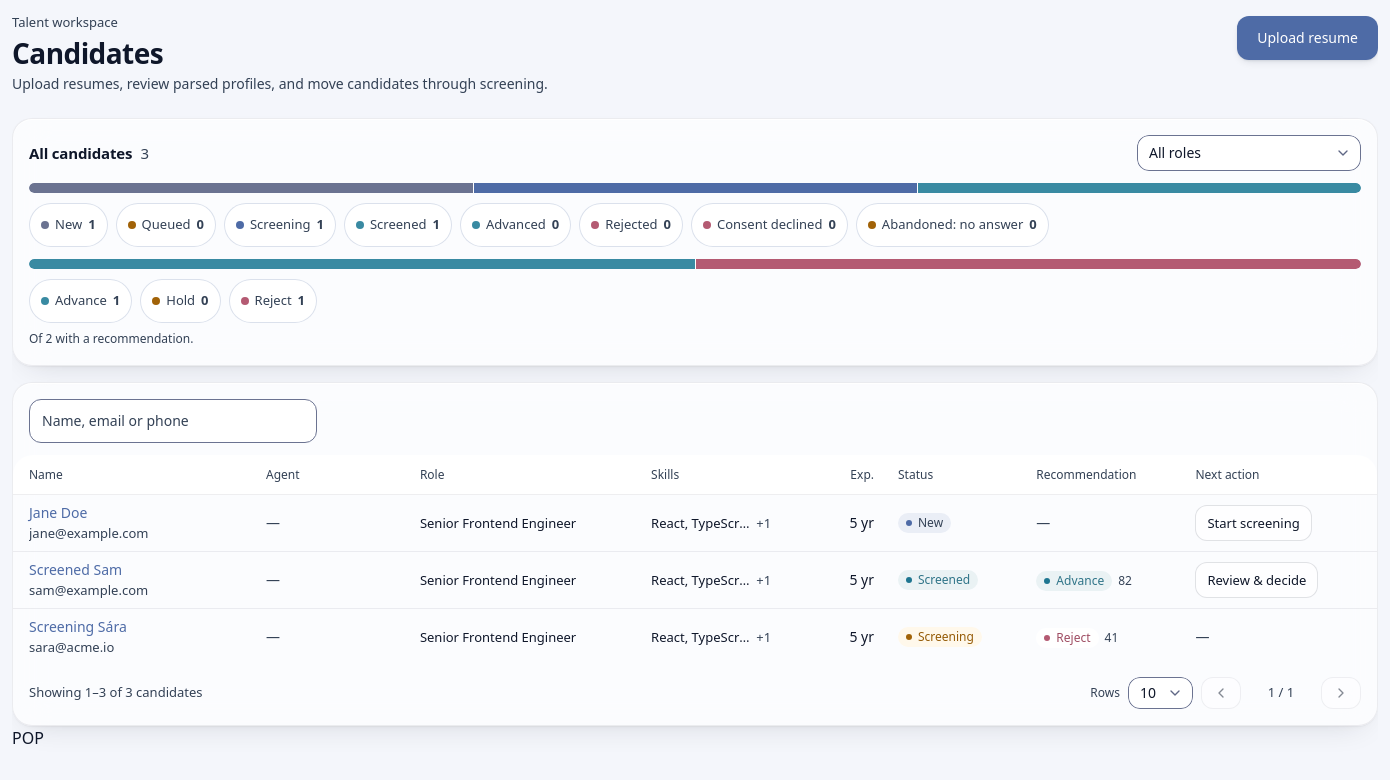
Test: CandidatesPage search › does not eat a trailing space while typing
The image size is (1390, 780).
Expected: the link "Jane Doe" is shown, [29,503,88,522]
Type "jane " into the search field named "Search candidates". click: (173, 421)
box: [29,399,317,443]
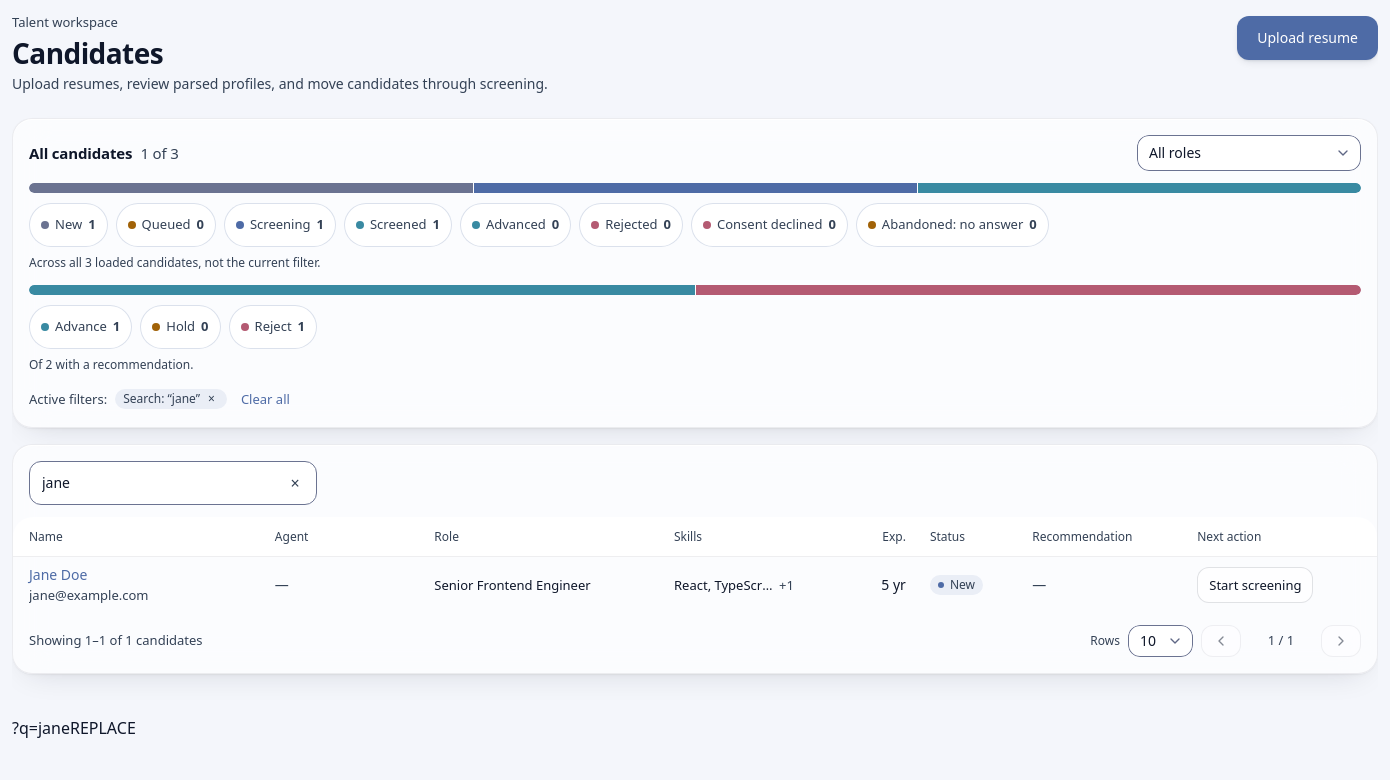
Expected: the text with test id "location" reads "?q=jane", [12,717,70,739]
